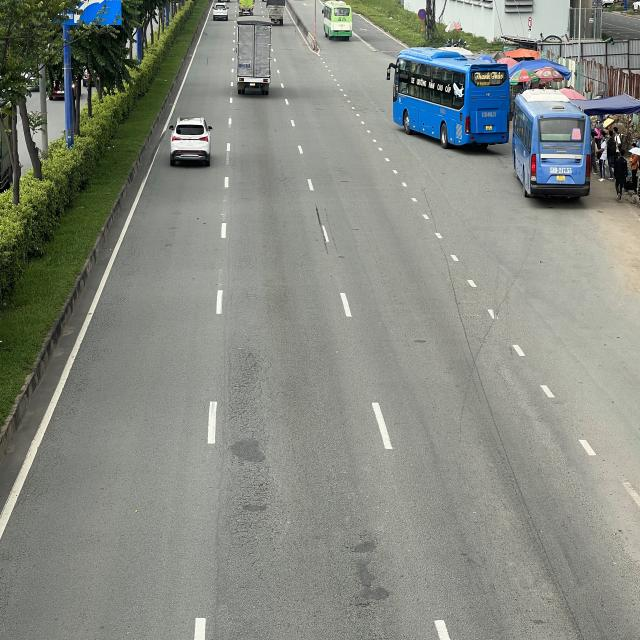car: (170, 117, 214, 169), (213, 5, 230, 22)
coach: (391, 49, 512, 150), (508, 91, 591, 202), (322, 2, 353, 41)
truck: (233, 19, 276, 96), (268, 0, 285, 26)
